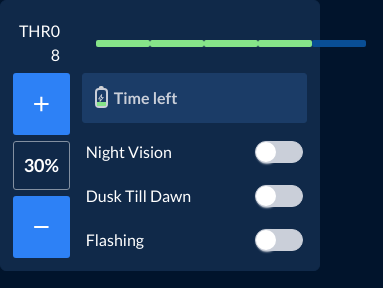
Scenario: Control widget component › Add button disabled when brightness reaches 100
Click the button with test id "add-button": click(41, 104) [13,73,70,135]
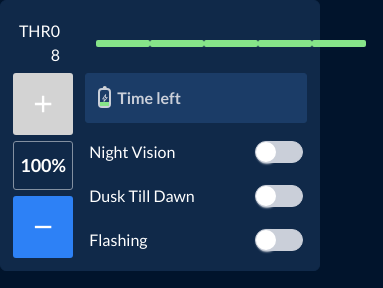
Check: the button with test id "add-button" is disabled, box [13,73,73,135]
